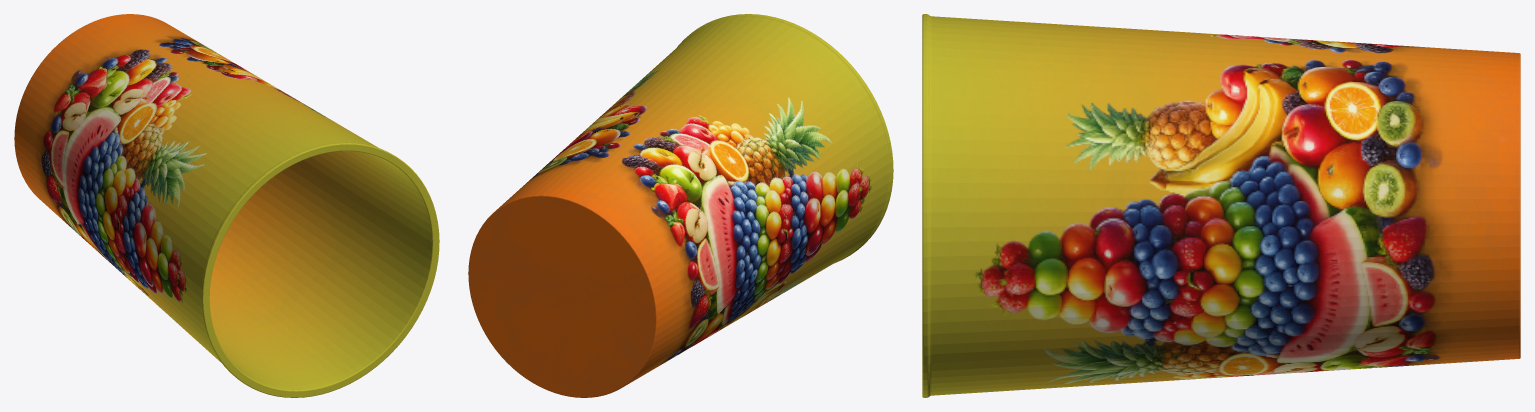
3 views of the same model, side by side, from view 1: azimuth 30°, elevation 25°; view 2: azimuth 150°, elevation 25°; view 3: azimuth 270°, elevation 25° (orthographic). The views are drawn at different scales.
Parts seen in each view (by area): view 1: geometry_0; view 2: geometry_0; view 3: geometry_0.
Part boxes in pixels (box(x1,y1,x2,y2)): geometry_0: box(14, 14, 439, 397); geometry_0: box(468, 14, 893, 397); geometry_0: box(922, 14, 1520, 397).
Bounding box in the file's own units: 0.0807 × 0.0807 × 0.1256.
1 material, 1 textured.
